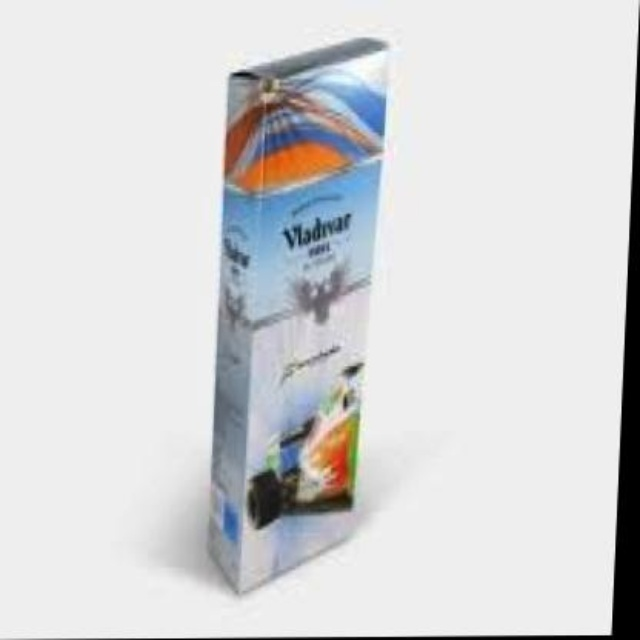trash: (209, 37, 386, 589)
